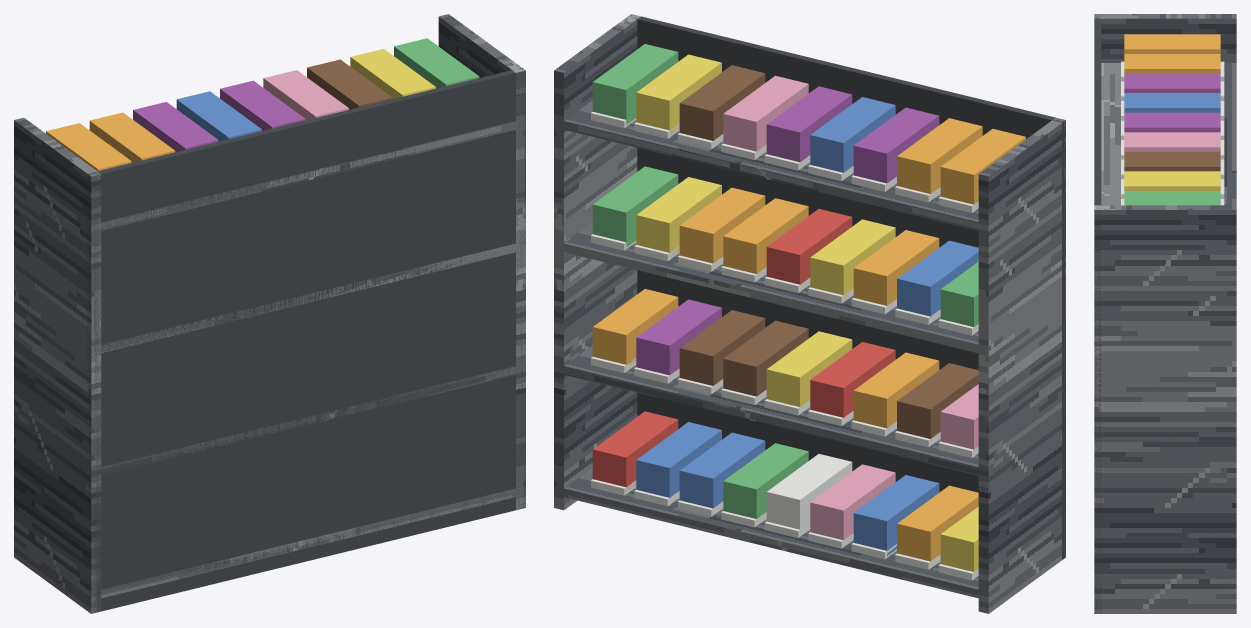
File: ST_ShoeShelf.glb
The picture shows the model from 3 angles, left to right: view 1: azimuth 30°, elevation 25°; view 2: azimuth 150°, elevation 25°; view 3: azimuth 270°, elevation 25°; orthographic projection. The views are drawn at different scales.
Visible parts, largest first — view 1: ShoeShelf; view 2: ShoeShelf; view 3: ShoeShelf.
Boxes of the visible parts, x1,y1,x2,y2 form: ShoeShelf: [14, 14, 525, 613]; ShoeShelf: [554, 14, 1065, 613]; ShoeShelf: [1094, 14, 1236, 613].
Size of the model in its own units: 1.3 by 1.25 by 0.4.
11 materials, 1 textured.
